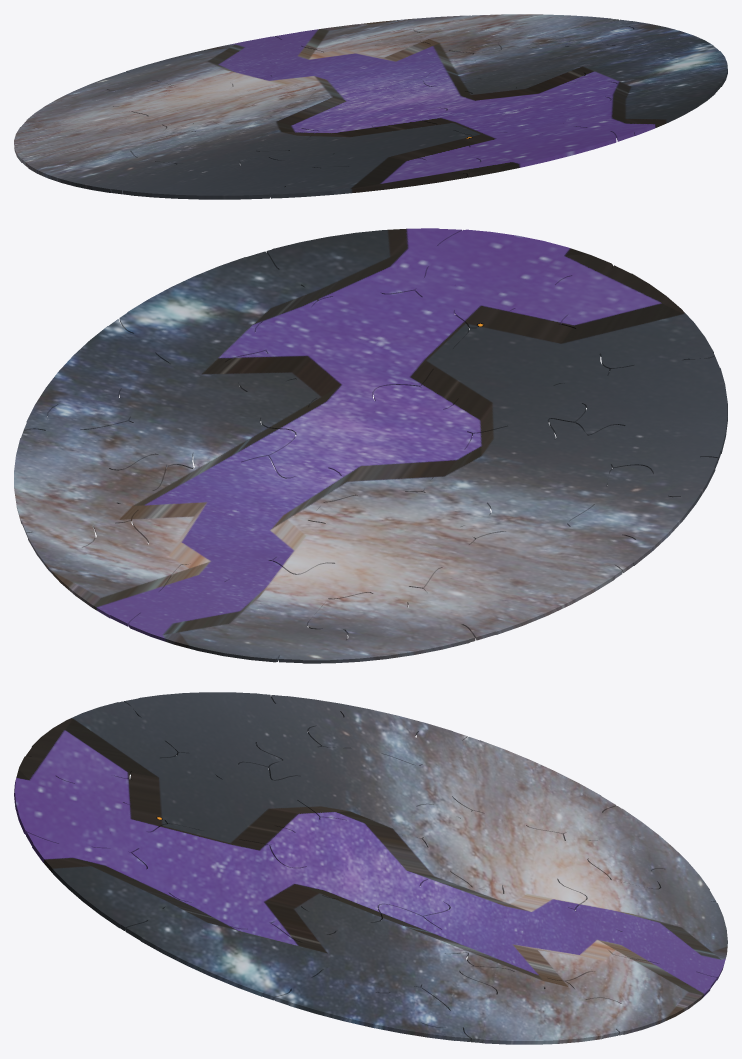
The model's file is Floor_Puzzle_Round_02fbx.fbx.
The picture shows the model from 3 angles, top to bottom: view 1: azimuth 30°, elevation 25°; view 2: azimuth 150°, elevation 25°; view 3: azimuth 270°, elevation 25°; orthographic projection. The views are drawn at different scales.
Parts seen in each view (by area): view 1: Plane.018, Plane.014, Plane.009, Plane.015, Plane.017, Plane.016, Plane.001, Plane.012, Plane.013, Plane.011, Plane.005, Plane.007 (+7 smaller); view 2: Plane.018, Plane.014, Plane.009, Plane.015, Plane.016, Plane.017, Plane.011, Plane.012, Plane.013, Plane.005, Plane.007, Plane.001 (+7 smaller); view 3: Plane.018, Plane.014, Plane.009, Plane.015, Plane.017, Plane.016, Plane.012, Plane.007, Plane.005, Plane.011, Plane.013, Plane.001 (+7 smaller).
Boxes of the visible parts, x1,y1,x2,y2 form: Plane.018: (252, 38, 480, 96); Plane.014: (422, 75, 624, 139); Plane.009: (101, 32, 339, 93); Plane.015: (253, 120, 470, 168); Plane.017: (113, 75, 318, 131); Plane.016: (270, 79, 480, 131); Plane.001: (93, 153, 333, 199); Plane.012: (127, 111, 326, 170); Plane.013: (423, 39, 618, 93); Plane.011: (14, 111, 166, 166); Plane.005: (575, 48, 727, 105); Plane.007: (414, 14, 633, 54); Plane.018: (111, 440, 341, 581); Plane.014: (239, 265, 481, 400); Plane.009: (108, 557, 348, 662); Plane.015: (421, 306, 609, 448); Plane.016: (261, 385, 472, 502); Plane.017: (273, 491, 490, 607); Plane.011: (424, 523, 640, 640); Plane.012: (399, 419, 634, 539); Plane.013: (109, 351, 317, 470); Plane.005: (119, 251, 339, 381); Plane.007: (14, 400, 166, 547); Plane.001: (554, 356, 727, 497); Plane.018: (416, 879, 627, 991); Plane.014: (102, 819, 336, 934); Plane.009: (557, 869, 727, 988); Plane.015: (114, 752, 324, 846); Plane.017: (413, 804, 610, 910); Plane.016: (270, 817, 471, 922); Plane.012: (256, 737, 471, 850); Plane.007: (406, 966, 620, 1044); Plane.005: (116, 890, 340, 1000); Plane.011: (416, 728, 616, 835); Plane.013: (271, 895, 496, 993); Plane.001: (124, 692, 343, 779).
Size of the model in its own units: 545 by 128 by 531.
